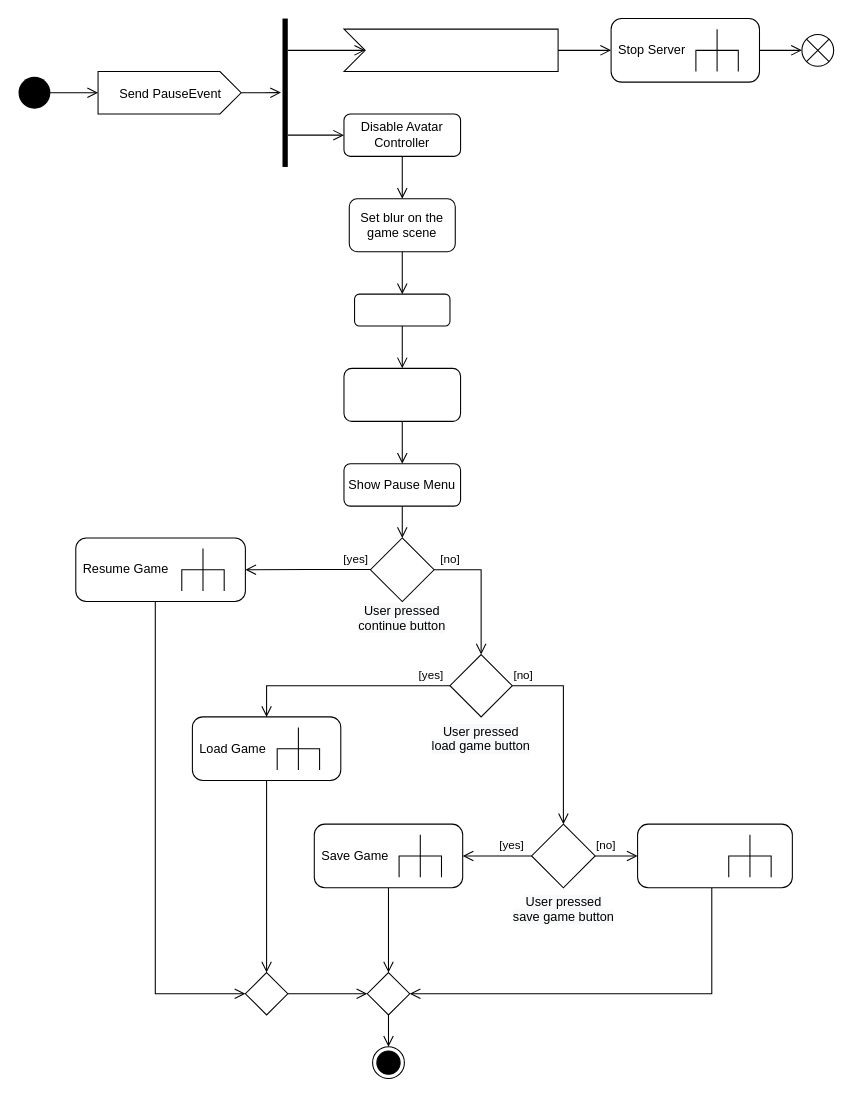
The diagram is 852 pixels wide and 1097 high, and some of its shapes have lost their labels. The centre of each missing label's shape, as x and y in pixels:
Abort Game: the point at 714,855
Change cursor to MenuCursor: the point at 402,394
Hide HUD: the point at 402,309
Receive PauseEvent by Server: the point at 450,50
